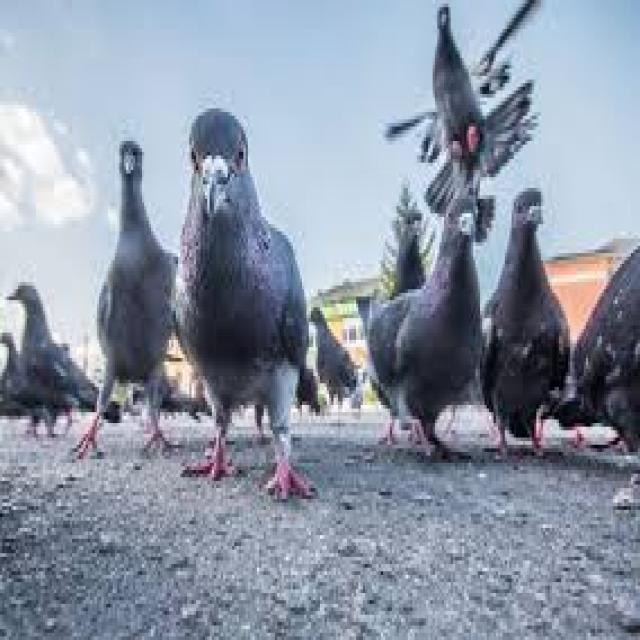pigeon: (170, 92, 348, 520)
